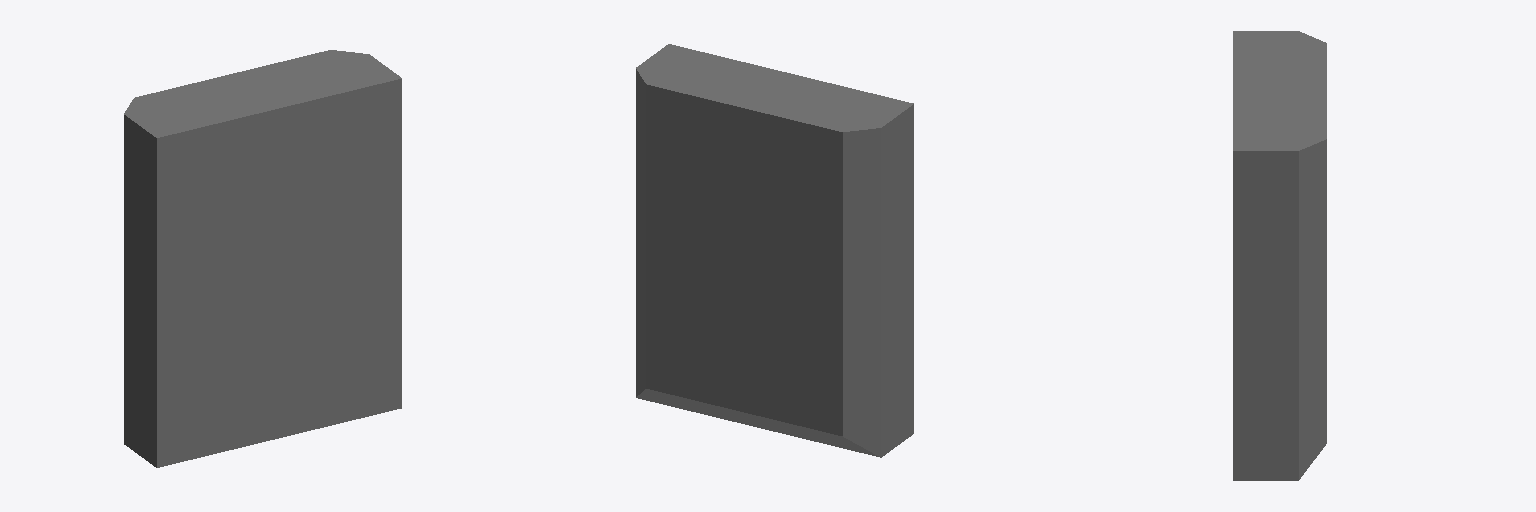
Rendered from switch.obj.
3 views of the same model, side by side, from view 1: azimuth 30°, elevation 25°; view 2: azimuth 150°, elevation 25°; view 3: azimuth 270°, elevation 25° (orthographic).
Visible parts, largest first — view 1: door_switch wall; view 2: door_switch wall; view 3: door_switch wall.
Part boxes in pixels (x1,y1,x2,y2): door_switch wall: (124,50,401,467); door_switch wall: (636,44,913,457); door_switch wall: (1233,31,1326,480).
Bounding box in the file's own units: 15 × 19.25 × 5.